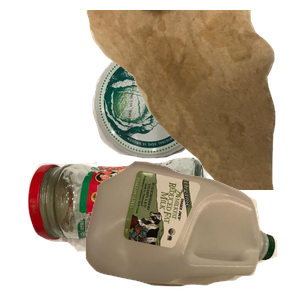glass: (25, 155, 227, 300)
metal: (90, 44, 289, 195)
plastic: (83, 159, 300, 300)
trash: (84, 10, 300, 190)
